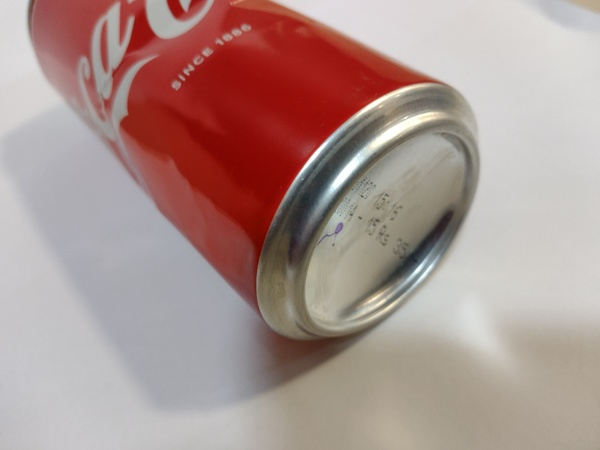can: (24, 2, 487, 345)
